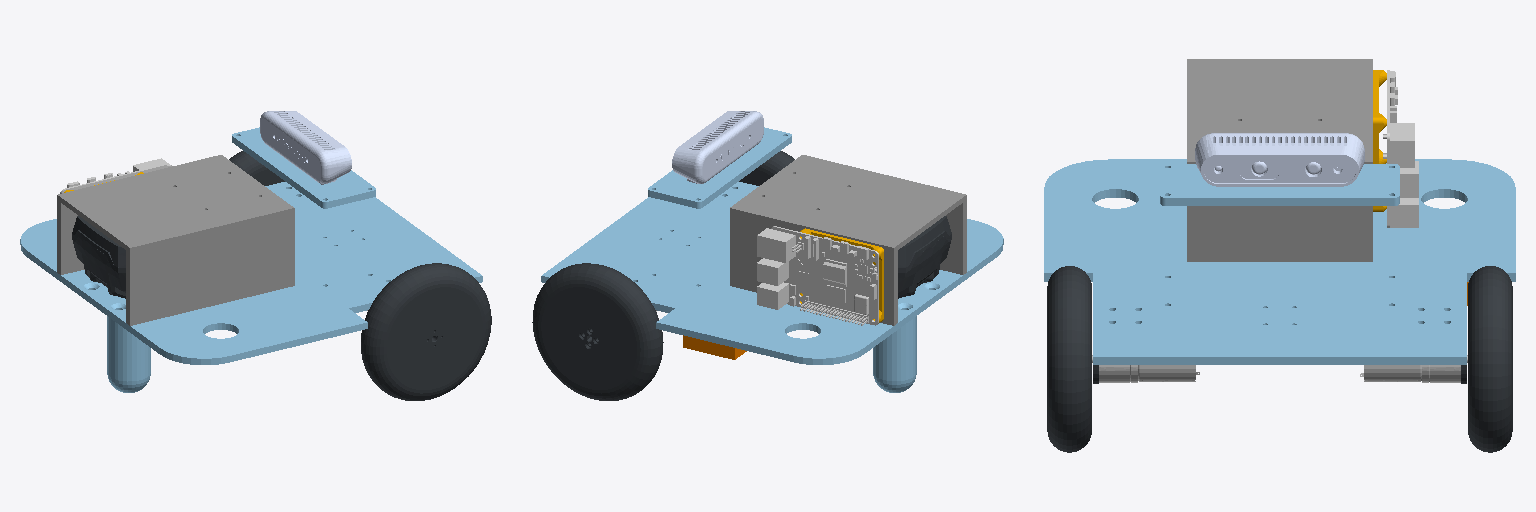
robot.urdf — alidade_v2:
<!--URDF generated by ONSHAPE BY PTC INC, 1.221-->
<robot name="alidade_v2">
    <link name="base_link">
        <inertial>
            <mass value="0.000275747" />
            <origin xyz="-0.129402 5.40301e-18 0.00249813" rpy="0 -0 0" />
            <inertia ixx="1.23398e-06" ixy="0" ixz="-4.77266e-11" iyy="1.3884e-06" iyz="0" izz="2.62123e-06" />
        </inertial>
        <visual>
            <origin xyz="-0.125 6.93889e-18 0" rpy="0 -0 0" />
            <geometry>
                <mesh filename="package://alidade_v2/meshes/base_link.stl" scale="1 1 1" />
            </geometry>
            <material name="0.615686_0.811765_0.929412_0.000000_0.000000">
                <color rgba="0.615686 0.811765 0.929412 1" />
            </material>
        </visual>
    </link>
    <link name="battery_link">
        <inertial>
            <mass value="0.000122132" />
            <origin xyz="-0.00630539 0.000320142 -0.0239702" rpy="0 -0 0" />
            <inertia ixx="1.07262e-07" ixy="-8.34136e-10" ixz="6.80454e-09" iyy="1.97665e-07" iyz="-8.1505e-10" izz="2.44575e-07" />
        </inertial>
        <visual>
            <origin xyz="0.120887 -0.125114 -0.04564" rpy="0 -0 0" />
            <geometry>
                <mesh filename="package://alidade_v2/meshes/battery_link.stl" scale="1 1 1" />
            </geometry>
            <material name="0.262745_0.282353_0.301961_0.000000_0.000000">
                <color rgba="0.262745 0.282353 0.301961 1" />
            </material>
        </visual>
    </link>
    <link name="battery_tray_link">
        <inertial>
            <mass value="4.3209e-05" />
            <origin xyz="-0.0138058 5.80321e-07 0.00617586" rpy="0 -0 0" />
            <inertia ixx="2.51517e-08" ixy="-4.83523e-13" ixz="-1.02772e-09" iyy="1.80906e-08" iyz="-2.13115e-13" izz="4.14968e-08" />
        </inertial>
        <visual>
            <origin xyz="-0.148 -0.128 0" rpy="0 -0 0" />
            <geometry>
                <mesh filename="package://alidade_v2/meshes/battery_tray_link.stl" scale="1 1 1" />
            </geometry>
            <material name="0.000000_1.000000_0.000000_0.000000_0.000000">
                <color rgba="0 1 0 1" />
            </material>
        </visual>
    </link>
    <link name="camera_adaptor">
        <inertial>
            <mass value="2.69817e-05" />
            <origin xyz="0.0175 -0.06 0.0025" rpy="0 -0 0" />
            <inertia ixx="3.68198e-08" ixy="0" ixz="0" iyy="4.22246e-09" iyz="0" izz="4.09298e-08" />
        </inertial>
        <visual>
            <origin xyz="0.0175 -0.06 0" rpy="0 -0 0" />
            <geometry>
                <mesh filename="package://alidade_v2/meshes/camera_adaptor.stl" scale="1 1 1" />
            </geometry>
            <material name="0.615686_0.811765_0.929412_0.000000_0.000000">
                <color rgba="0.615686 0.811765 0.929412 1" />
            </material>
        </visual>
    </link>
    <link name="camera_mount_link">
        <inertial>
            <mass value="3.8641e-05" />
            <origin xyz="0.000591792 1.14347e-05 0.0121337" rpy="0 -0 0" />
            <inertia ixx="2.57349e-08" ixy="-8.20526e-12" ixz="9.94182e-12" iyy="3.37328e-09" iyz="-7.10456e-14" izz="2.59396e-08" />
        </inertial>
        <visual>
            <origin xyz="-0.0189515 1.10602e-18 0.0039" rpy="0 -0 0" />
            <geometry>
                <mesh filename="package://alidade_v2/meshes/camera_mount_link.stl" scale="1 1 1" />
            </geometry>
            <material name="0.866667_0.909804_1.000000_0.000000_0.000000">
                <color rgba="0.866667 0.909804 1 1" />
            </material>
        </visual>
    </link>
    <link name="caster_wheel_link">
        <inertial>
            <mass value="5.01392e-05" />
            <origin xyz="0.01875 -0.01875 -0.0310007" rpy="0 -0 0" />
            <inertia ixx="2.40072e-08" ixy="0" ixz="0" iyy="2.40072e-08" iyz="0" izz="6.87745e-09" />
        </inertial>
        <visual>
            <origin xyz="0.01875 -0.01875 0" rpy="0 -0 0" />
            <geometry>
                <mesh filename="package://alidade_v2/meshes/caster_wheel_link.stl" scale="1 1 1" />
            </geometry>
            <material name="0.615686_0.811765_0.929412_0.000000_0.000000">
                <color rgba="0.615686 0.811765 0.929412 1" />
            </material>
        </visual>
    </link>
    <link name="dcdc_link">
        <inertial>
            <mass value="8.34806e-06" />
            <origin xyz="0.0313637 0.00337726 0.0143404" rpy="0 -0 0" />
            <inertia ixx="5.85964e-10" ixy="-8.96499e-11" ixz="1.42058e-11" iyy="1.37803e-09" iyz="8.4184e-12" izz="9.98118e-10" />
        </inertial>
        <visual>
            <origin xyz="0.03395 0.0007 0.0141" rpy="0 -0 0" />
            <geometry>
                <mesh filename="package://alidade_v2/meshes/dcdc_link.stl" scale="1 1 1" />
            </geometry>
            <material name="0.000000_0.000000_0.000000_0.000000_0.000000">
                <color rgba="0 0 0 1" />
            </material>
        </visual>
    </link>
    <link name="deck_link">
        <inertial>
            <mass value="0.00014731" />
            <origin xyz="-0.0520213 -0.0475 0.037967" rpy="0 -0 0" />
            <inertia ixx="2.72724e-07" ixy="0" ixz="1.62442e-08" iyy="3.04225e-07" iyz="0" izz="4.70608e-07" />
        </inertial>
        <visual>
            <origin xyz="-0.0025 -0.0475 -0.005" rpy="0 -0 0" />
            <geometry>
                <mesh filename="package://alidade_v2/meshes/deck_link.stl" scale="1 1 1" />
            </geometry>
            <material name="0.647059_0.647059_0.647059_0.000000_0.000000">
                <color rgba="0.647059 0.647059 0.647059 1" />
            </material>
        </visual>
    </link>
    <link name="driver_board_link">
        <inertial>
            <mass value="4.89491e-06" />
            <origin xyz="8.10699e-11 -0.000565178 -0.00209501" rpy="0 -0 0" />
            <inertia ixx="4.35323e-10" ixy="0" ixz="0" iyy="1.09988e-09" iyz="-2.76617e-12" izz="1.51086e-09" />
        </inertial>
        <visual>
            <origin xyz="-0.01127 1.15247e-18 0.00075" rpy="0 -0 0" />
            <geometry>
                <mesh filename="package://alidade_v2/meshes/driver_board_link.stl" scale="1 1 1" />
            </geometry>
            <material name="0.768627_0.886275_0.952941_0.000000_0.000000">
                <color rgba="0.768627 0.886275 0.952941 1" />
            </material>
        </visual>
    </link>
    <link name="imu_link">
        <inertial>
            <mass value="9.34871e-07" />
            <origin xyz="0.00236646 -0.00269805 -0.000534892" rpy="0 -0 0" />
            <inertia ixx="2.7347e-11" ixy="6.31926e-13" ixz="-8.2028e-13" iyy="5.10439e-11" iyz="1.55278e-13" izz="7.72887e-11" />
        </inertial>
        <visual>
            <origin xyz="0.010155 0.00248 -0.00157" rpy="0 -0 0" />
            <geometry>
                <mesh filename="package://alidade_v2/meshes/imu_link.stl" scale="1 1 1" />
            </geometry>
            <material name="1.000000_1.000000_1.000000_0.000000_0.000000">
                <color rgba="1 1 1 1" />
            </material>
        </visual>
    </link>
    <link name="laser">
        <inertial>
            <mass value="3.23157e-05" />
            <origin xyz="8.41462e-05 -9.44507e-05 -0.0165779" rpy="0 -0 0" />
            <inertia ixx="1.41413e-08" ixy="-2.23006e-12" ixz="2.21212e-11" iyy="1.40971e-08" iyz="-1.67404e-11" izz="1.99332e-08" />
        </inertial>
        <visual>
            <origin xyz="-2.3726e-19 -4.2615e-17 -0.0305964" rpy="0 -0 0" />
            <geometry>
                <mesh filename="package://alidade_v2/meshes/laser.stl" scale="1 1 1" />
            </geometry>
            <material name="0.156863_0.156863_0.156863_0.000000_0.000000">
                <color rgba="0.156863 0.156863 0.156863 1" />
            </material>
        </visual>
    </link>
    <link name="motor_driver_left_link">
        <inertial>
            <mass value="1.87625e-06" />
            <origin xyz="-0.0127238 -0.00396475 0.00880106" rpy="0 -0 0" />
            <inertia ixx="8.87806e-11" ixy="-1.70994e-11" ixz="-6.76803e-12" iyy="1.44367e-10" iyz="2.57579e-12" izz="1.00757e-10" />
        </inertial>
        <visual>
            <origin xyz="-0.06707 0 0.0005" rpy="0 -0 0" />
            <geometry>
                <mesh filename="package://alidade_v2/meshes/motor_driver_left_link.stl" scale="1 1 1" />
            </geometry>
            <material name="0.768627_0.886275_0.952941_0.000000_0.000000">
                <color rgba="0.768627 0.886275 0.952941 1" />
            </material>
        </visual>
    </link>
    <link name="motor_driver_right_link">
        <inertial>
            <mass value="1.87625e-06" />
            <origin xyz="-0.0127238 -0.00396475 -0.00739894" rpy="0 -0 0" />
            <inertia ixx="8.87806e-11" ixy="-1.70994e-11" ixz="-6.76803e-12" iyy="1.44367e-10" iyz="2.57579e-12" izz="1.00757e-10" />
        </inertial>
        <visual>
            <origin xyz="-0.06707 0 -0.0497" rpy="0 -0 0" />
            <geometry>
                <mesh filename="package://alidade_v2/meshes/motor_driver_right_link.stl" scale="1 1 1" />
            </geometry>
            <material name="0.768627_0.886275_0.952941_0.000000_0.000000">
                <color rgba="0.768627 0.886275 0.952941 1" />
            </material>
        </visual>
    </link>
    <link name="motor_left_link">
        <inertial>
            <mass value="2.4232e-05" />
            <origin xyz="3.52782e-06 1.18369e-06 -0.0247986" rpy="0 -0 0" />
            <inertia ixx="6.23821e-09" ixy="1.51175e-12" ixz="4.03364e-13" iyy="6.23998e-09" iyz="7.15374e-13" izz="1.84251e-09" />
        </inertial>
        <visual>
            <origin xyz="4.03494e-06 4.21546e-08 -0.021" rpy="0 -0 0" />
            <geometry>
                <mesh filename="package://alidade_v2/meshes/motor_left_link.stl" scale="1 1 1" />
            </geometry>
            <material name="0.800000_0.800000_0.800000_0.000000_0.000000">
                <color rgba="0.8 0.8 0.8 1" />
            </material>
        </visual>
    </link>
    <link name="motor_mount_left_link">
        <inertial>
            <mass value="4.05041e-06" />
            <origin xyz="0.00815 0.0010031 0.00895425" rpy="0 -0 0" />
            <inertia ixx="8.18103e-10" ixy="0" ixz="0" iyy="6.21383e-10" iyz="-2.39803e-10" izz="6.74037e-10" />
        </inertial>
        <visual>
            <origin xyz="0.00815 -0.0223 0" rpy="0 -0 0" />
            <geometry>
                <mesh filename="package://alidade_v2/meshes/motor_mount_left_link.stl" scale="1 1 1" />
            </geometry>
            <material name="0.262745_0.282353_0.301961_0.000000_0.000000">
                <color rgba="0.262745 0.282353 0.301961 1" />
            </material>
        </visual>
    </link>
    <link name="motor_mount_right_link">
        <inertial>
            <mass value="4.05041e-06" />
            <origin xyz="-0.00815 0.0010031 0.00895425" rpy="0 -0 0" />
            <inertia ixx="8.18103e-10" ixy="0" ixz="0" iyy="6.21383e-10" iyz="-2.39803e-10" izz="6.74037e-10" />
        </inertial>
        <visual>
            <origin xyz="-0.00815 -0.0223 0" rpy="0 -0 0" />
            <geometry>
                <mesh filename="package://alidade_v2/meshes/motor_mount_right_link.stl" scale="1 1 1" />
            </geometry>
            <material name="0.262745_0.282353_0.301961_0.000000_0.000000">
                <color rgba="0.262745 0.282353 0.301961 1" />
            </material>
        </visual>
    </link>
    <link name="motor_right_link">
        <inertial>
            <mass value="2.4232e-05" />
            <origin xyz="-5.07116e-07 1.14154e-06 -0.0247986" rpy="0 -0 0" />
            <inertia ixx="6.23821e-09" ixy="1.51175e-12" ixz="4.03361e-13" iyy="6.23998e-09" iyz="7.15371e-13" izz="1.84251e-09" />
        </inertial>
        <visual>
            <origin xyz="0 -0.0338 -0.021" rpy="0 -0 0" />
            <geometry>
                <mesh filename="package://alidade_v2/meshes/motor_right_link.stl" scale="1 1 1" />
            </geometry>
            <material name="0.800000_0.800000_0.800000_0.000000_0.000000">
                <color rgba="0.8 0.8 0.8 1" />
            </material>
        </visual>
    </link>
    <link name="pi_link">
        <inertial>
            <mass value="2.29908e-05" />
            <origin xyz="0.0563352 0.0234255 0.00545939" rpy="0 -0 0" />
            <inertia ixx="6.64877e-09" ixy="-4.90206e-11" ixz="-1.58651e-09" iyy="1.52185e-08" iyz="-4.52681e-11" izz="2.07467e-08" />
        </inertial>
        <visual>
            <origin xyz="0.039 0.0245 0" rpy="0 -0 0" />
            <geometry>
                <mesh filename="package://alidade_v2/meshes/pi_link.stl" scale="1 1 1" />
            </geometry>
            <material name="0.862745_0.862745_0.862745_0.000000_0.000000">
                <color rgba="0.862745 0.862745 0.862745 1" />
            </material>
        </visual>
    </link>
    <link name="pi_mount_link">
        <inertial>
            <mass value="1.09201e-05" />
            <origin xyz="-5.9353e-06 2.73651e-06 0.0016171" rpy="0 -0 0" />
            <inertia ixx="3.20565e-09" ixy="1.89968e-12" ixz="5.66429e-14" iyy="4.19035e-09" iyz="-2.74213e-14" izz="7.36865e-09" />
        </inertial>
        <visual>
            <origin xyz="0.00995724 6.36564e-19 0.007" rpy="0 -0 0" />
            <geometry>
                <mesh filename="package://alidade_v2/meshes/pi_mount_link.stl" scale="1 1 1" />
            </geometry>
            <material name="0.980392_0.713725_0.003922_0.000000_0.000000">
                <color rgba="0.980392 0.713726 0.00392157 1" />
            </material>
        </visual>
    </link>
    <link name="power_bracket_link">
        <inertial>
            <mass value="1.64647e-05" />
            <origin xyz="-0.00111389 -0.00773123 -1.02036e-05" rpy="0 -0 0" />
            <inertia ixx="4.44442e-09" ixy="2.07263e-11" ixz="-4.07847e-12" iyy="9.06578e-09" iyz="-8.83554e-13" izz="5.78195e-09" />
        </inertial>
        <visual>
            <origin xyz="0.0111 -0.01275 -0.0009" rpy="0 -0 0" />
            <geometry>
                <mesh filename="package://alidade_v2/meshes/power_bracket_link.stl" scale="1 1 1" />
            </geometry>
            <material name="0.972549_0.529412_0.003922_0.000000_0.000000">
                <color rgba="0.972549 0.529412 0.00392157 1" />
            </material>
        </visual>
    </link>
    <link name="root" />
    <link name="wheel_left_link">
        <inertial>
            <mass value="0.000167891" />
            <origin xyz="-3.93855e-07 -7.06244e-06 -4.21881e-08" rpy="0 1.46409 0" />
            <inertia ixx="1.04351e-07" ixy="0" ixz="-7.87631e-15" iyy="1.94048e-07" iyz="0" izz="1.04351e-07" />
        </inertial>
        <visual>
            <origin xyz="-6.84862e-07 -0.055 -7.33596e-08" rpy="0 1.46409 0" />
            <geometry>
                <mesh filename="package://alidade_v2/meshes/wheel_left_link.stl" scale="1 1 1" />
            </geometry>
            <material name="0.262745_0.282353_0.301961_0.000000_0.000000">
                <color rgba="0.262745 0.282353 0.301961 1" />
            </material>
        </visual>
    </link>
    <link name="wheel_right_link">
        <inertial>
            <mass value="0.000167891" />
            <origin xyz="1.99535e-20 -7.06244e-06 -3.86019e-07" rpy="0 -0 0" />
            <inertia ixx="1.04351e-07" ixy="0" ixz="0" iyy="1.94048e-07" iyz="0" izz="1.04351e-07" />
        </inertial>
        <visual>
            <origin xyz="-1.17538e-20 -0.012 -6.78691e-07" rpy="0 -0 0" />
            <geometry>
                <mesh filename="package://alidade_v2/meshes/wheel_right_link.stl" scale="1 1 1" />
            </geometry>
            <material name="0.262745_0.282353_0.301961_0.000000_0.000000">
                <color rgba="0.262745 0.282353 0.301961 1" />
            </material>
        </visual>
    </link>
    <joint name="base_joint" type="fixed">
        <origin xyz="0.052 0 0.070601" rpy="-7.99361e-15 5.45793e-29 3.9968e-15" />
        <axis xyz="0 0 1" />
        <parent link="root" />
        <child link="base_link" />
    </joint>
    <joint name="battery_joint" type="fixed">
        <origin xyz="-0.0306365 5.51219e-11 0.005" rpy="-3.14159 -2.1684e-19 -3.21271e-15" />
        <axis xyz="-2.1684e-19 -1.38778e-17 1" />
        <parent link="battery_tray_link" />
        <child link="battery_link" />
    </joint>
    <joint name="battery_tray_joint" type="fixed">
        <origin xyz="-0.153984 -2.41044e-18 0.005" rpy="2.66454e-15 -2.55579e-29 -3.9968e-15" />
        <axis xyz="0 0 -1" />
        <parent link="base_link" />
        <child link="battery_tray_link" />
    </joint>
    <joint name="camera_adaptor_joint" type="fixed">
        <origin xyz="-0.066 -0.06 0.065" rpy="-7.99361e-15 2.66454e-15 3.14159" />
        <axis xyz="0 0 1" />
        <parent link="base_link" />
        <child link="camera_adaptor" />
    </joint>
    <joint name="camera_mount_joint" type="fixed">
        <origin xyz="0.0175 -0.06 0.005" rpy="1.45363e-17 6.12323e-17 -3.14159" />
        <axis xyz="-6.12323e-17 1.45363e-17 1" />
        <parent link="camera_adaptor" />
        <child link="camera_mount_link" />
    </joint>
    <joint name="caster_wheel_joint" type="fixed">
        <origin xyz="-0.24075 0.01875 0" rpy="5.32907e-15 -3.06177e-29 -3.9968e-15" />
        <axis xyz="-0 -0 1" />
        <parent link="base_link" />
        <child link="caster_wheel_link" />
    </joint>
    <joint name="dcdc_joint" type="fixed">
        <origin xyz="-0.02335 -0.01345 -0.0155" rpy="5.55112e-17 -5.55112e-17 5.55112e-17" />
        <axis xyz="0 1 0" />
        <parent link="power_bracket_link" />
        <child link="dcdc_link" />
    </joint>
    <joint name="deck_joint" type="fixed">
        <origin xyz="-0.1225 0.0475 0.005" rpy="1.97215e-31 -3.06177e-29 -3.9968e-15" />
        <axis xyz="0 0 1" />
        <parent link="base_link" />
        <child link="deck_link" />
    </joint>
    <joint name="driver_board_joint" type="fixed">
        <origin xyz="-0.111954 -5.15443e-18 0" rpy="-7.99361e-15 7.99361e-15 1.5708" />
        <axis xyz="0 0 1" />
        <parent link="base_link" />
        <child link="driver_board_link" />
    </joint>
    <joint name="imu_joint" type="fixed">
        <origin xyz="-0.0539 -0.0026 -0.00457" rpy="-3.14159 -6.25665e-29 -3.9968e-15" />
        <axis xyz="0 0 1" />
        <parent link="base_link" />
        <child link="imu_link" />
    </joint>
    <joint name="laser_joint" type="fixed">
        <origin xyz="-0.0293 -0.0475 0.0985963" rpy="1.40166e-15 -1.38778e-17 -9.72595e-33" />
        <axis xyz="1.38778e-17 1.40166e-15 1" />
        <parent link="deck_link" />
        <child link="laser" />
    </joint>
    <joint name="motor_driver_left_joint" type="fixed">
        <origin xyz="0.01924 -0.00941 -0.005" rpy="1.5708 -0 -1.5708" />
        <axis xyz="0 1 0" />
        <parent link="driver_board_link" />
        <child link="motor_driver_left_link" />
    </joint>
    <joint name="motor_driver_right_joint" type="fixed">
        <origin xyz="-0.01924 -0.00941 -0.005" rpy="1.5708 -0 -1.5708" />
        <axis xyz="0 1 0" />
        <parent link="driver_board_link" />
        <child link="motor_driver_right_link" />
    </joint>
    <joint name="motor_left_joint" type="fixed">
        <origin xyz="0.00815 0.00745 0.0206" rpy="1.5708 -1.19349e-15 3.14159" />
        <axis xyz="0 0 1" />
        <parent link="motor_mount_left_link" />
        <child link="motor_left_link" />
    </joint>
    <joint name="motor_mount_left_joint" type="fixed">
        <origin xyz="-0.04385 0.08955 9.71445e-16" rpy="3.14159 -7.79529e-28 3.14159" />
        <axis xyz="0 0 -1" />
        <parent link="base_link" />
        <child link="motor_mount_left_link" />
    </joint>
    <joint name="motor_mount_right_joint" type="fixed">
        <origin xyz="-0.04385 -0.08955 -9.4369e-16" rpy="-3.14159 -3.19073e-29 -4.7462e-15" />
        <axis xyz="-0 -0 -1" />
        <parent link="base_link" />
        <child link="motor_mount_right_link" />
    </joint>
    <joint name="motor_right_joint" type="fixed">
        <origin xyz="-0.00815 0.00745 0.0206" rpy="-1.5708 -2.498e-16 3.81718e-16" />
        <axis xyz="0 0 1" />
        <parent link="motor_mount_right_link" />
        <child link="motor_right_link" />
    </joint>
    <joint name="pi_joint" type="fixed">
        <origin xyz="-0.0290428 -0.0245 0.007" rpy="-7.81319e-15 1.9984e-15 -1.249e-16" />
        <axis xyz="-0 -0 -1" />
        <parent link="pi_mount_link" />
        <child link="pi_link" />
    </joint>
    <joint name="pi_mount_joint" type="fixed">
        <origin xyz="-0.0875 0.0025 0.0295" rpy="-1.5708 9.86076e-31 -1.77494e-30" />
        <axis xyz="0 0 -1" />
        <parent link="deck_link" />
        <child link="pi_mount_link" />
    </joint>
    <joint name="power_bracket_joint" type="fixed">
        <origin xyz="-0.136954 0.08 0" rpy="1.5708 1.40443e-14 1.5708" />
        <axis xyz="0 1 0" />
        <parent link="base_link" />
        <child link="power_bracket_link" />
    </joint>
    <joint name="wheel_left_joint" type="continuous">
        <origin xyz="4.03494e-06 4.21546e-08 0.0155" rpy="1.5708 3.33067e-16 6.245e-16" />
        <axis xyz="0 1 0" />
        <parent link="motor_left_link" />
        <child link="wheel_left_link" />
    </joint>
    <joint name="wheel_right_joint" type="continuous">
        <origin xyz="1.00466e-20 6.93889e-18 0.0155" rpy="-1.5708 -5.27356e-16 8.32667e-17" />
        <axis xyz="0 1 0" />
        <parent link="motor_right_link" />
        <child link="wheel_right_link" />
    </joint>
</robot>

--- Facts derived from the render (not from the file) ---
Views: 3 orthographic renders of the robot side by side, from view 1: azimuth 30°, elevation 25°; view 2: azimuth 150°, elevation 25°; view 3: azimuth 270°, elevation 25°.
Model alidade_v2 with 23 links and 22 joints (2 continuous, 20 fixed), rooted at root, posed every joint at zero.
Visible links, largest first — view 1: deck_link, base_link, wheel_right_link, camera_mount_link, camera_adaptor, battery_link, caster_wheel_link, pi_link, wheel_left_link; view 2: base_link, deck_link, wheel_left_link, pi_link, camera_mount_link, camera_adaptor, battery_link, caster_wheel_link, wheel_right_link, pi_mount_link, power_bracket_link; view 3: base_link, deck_link, camera_mount_link, wheel_left_link, wheel_right_link, camera_adaptor, pi_link, motor_left_link, motor_right_link, pi_mount_link.
Boxes of the visible links, box(x1,y1,x2,y2) form: deck_link: box(57, 155, 294, 325); base_link: box(20, 182, 482, 364); wheel_right_link: box(361, 263, 491, 400); camera_mount_link: box(260, 111, 351, 184); camera_adaptor: box(232, 127, 375, 208); battery_link: box(72, 216, 125, 298); caster_wheel_link: box(107, 316, 150, 392); pi_link: box(60, 158, 171, 193); wheel_left_link: box(229, 151, 284, 185); base_link: box(541, 182, 1003, 364); deck_link: box(730, 155, 966, 325); wheel_left_link: box(532, 263, 663, 400); pi_link: box(757, 226, 878, 325); camera_mount_link: box(672, 111, 763, 183); camera_adaptor: box(648, 127, 791, 208); battery_link: box(898, 216, 951, 298); caster_wheel_link: box(873, 316, 916, 392); wheel_right_link: box(739, 151, 794, 185); pi_mount_link: box(800, 228, 883, 322); power_bracket_link: box(683, 335, 746, 359); base_link: box(1044, 159, 1515, 364); deck_link: box(1187, 59, 1372, 261); camera_mount_link: box(1195, 133, 1364, 186); wheel_left_link: box(1468, 266, 1512, 452); wheel_right_link: box(1047, 266, 1091, 452); camera_adaptor: box(1160, 164, 1399, 205); pi_link: box(1383, 70, 1418, 227); motor_left_link: box(1360, 355, 1467, 382); motor_right_link: box(1092, 355, 1199, 382); pi_mount_link: box(1373, 70, 1386, 211).
Size in the robot's own frame: 0.2512 by 0.252 by 0.1652 metres.
21 mesh visuals loaded from 22 distinct referenced files (21 binary STL); not drawn: 1 (reference not matched to a file when rendering).
